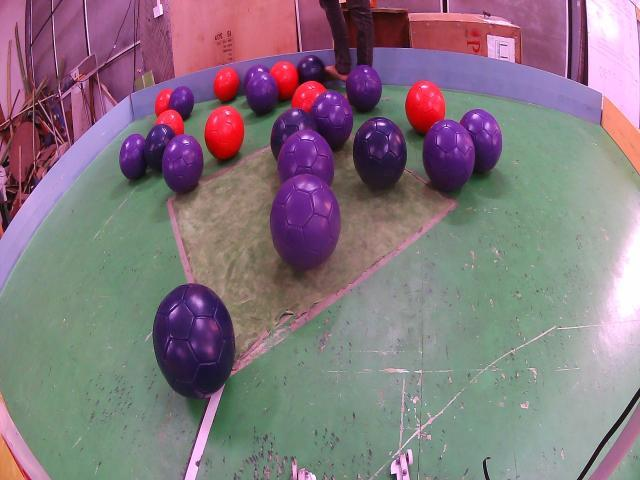jambhalya: (270, 173, 341, 270), (422, 120, 475, 191), (278, 130, 334, 185), (460, 108, 502, 172), (310, 90, 354, 150), (162, 133, 204, 193), (346, 65, 382, 112), (245, 72, 279, 114), (119, 133, 148, 180), (169, 87, 194, 120), (242, 63, 269, 89)
kaalyya: (152, 283, 235, 398), (352, 117, 406, 188), (270, 108, 318, 160), (144, 123, 175, 172), (298, 55, 325, 83)
